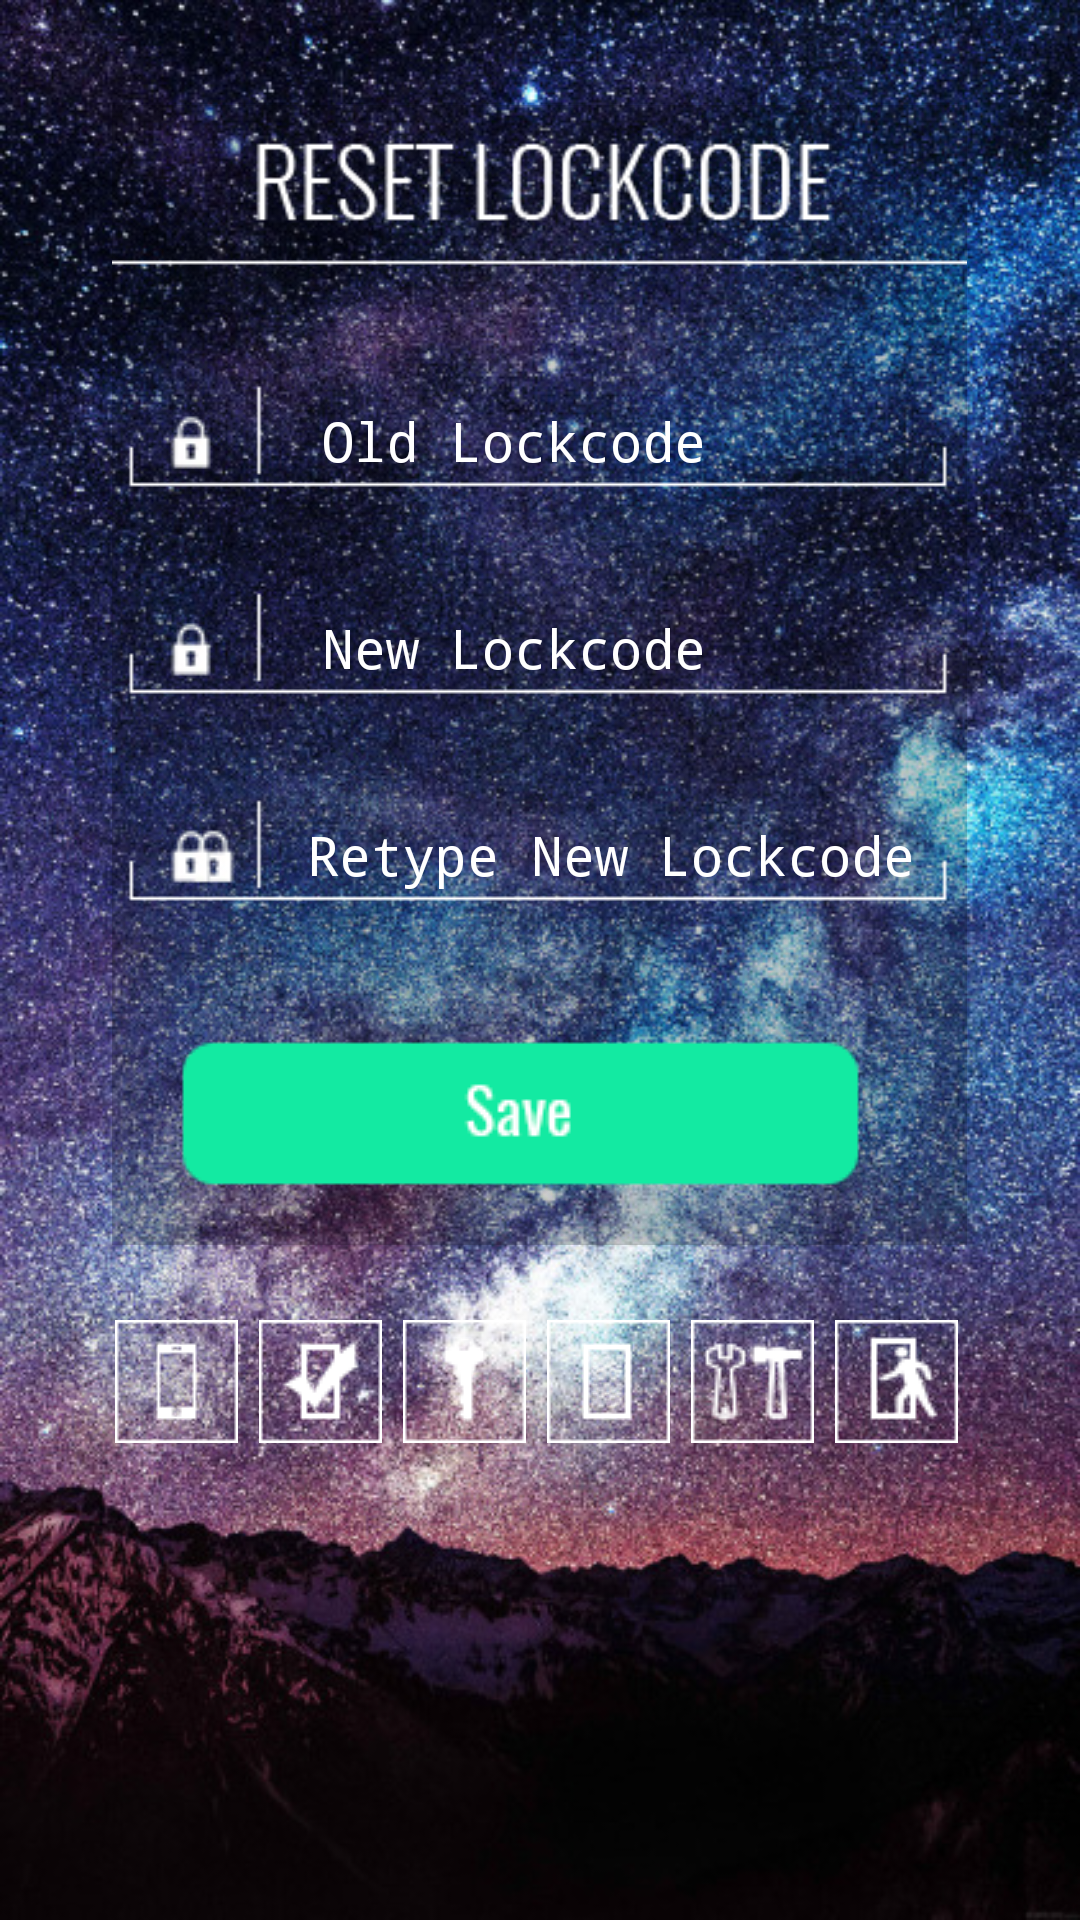

Icon click points for this 1080 x 1920 phone screenshot, format [x,y]:
extwbx: [896,1381]
setwbx: [752,1381]
